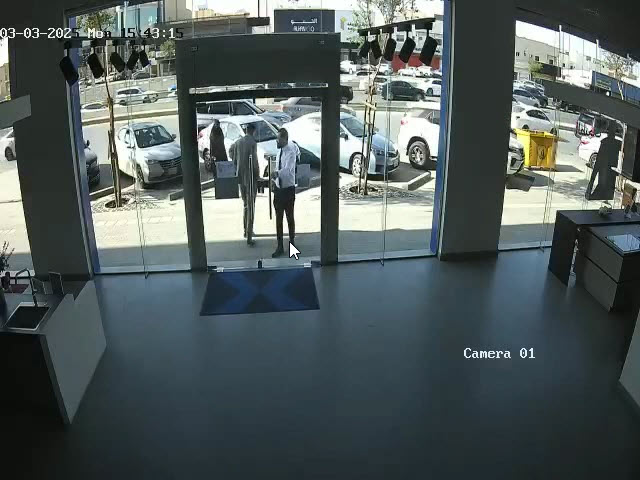employee: (270, 127, 300, 258), (228, 124, 260, 246)
female: (209, 119, 228, 182)
